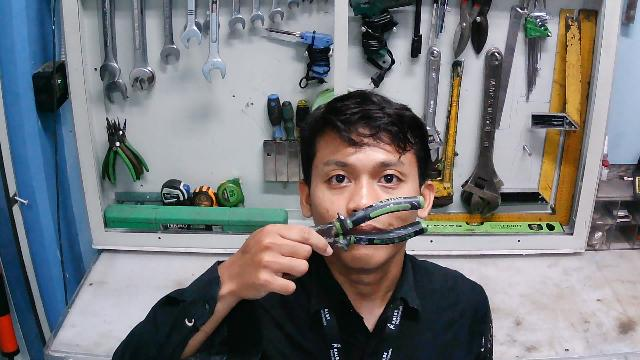tang_kombinasi: (307, 194, 429, 251)
